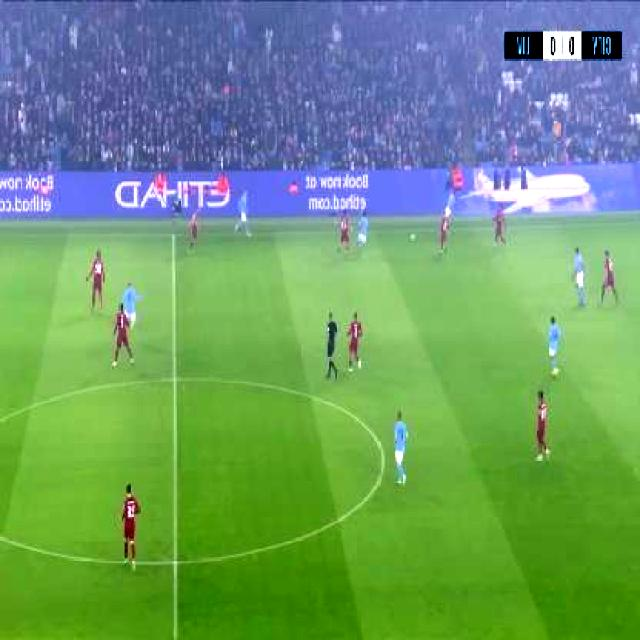halfcircle_bottom: (163, 543, 189, 579)
halfcircle_top: (160, 362, 189, 396)
midline_top_intersection: (165, 222, 183, 248)
